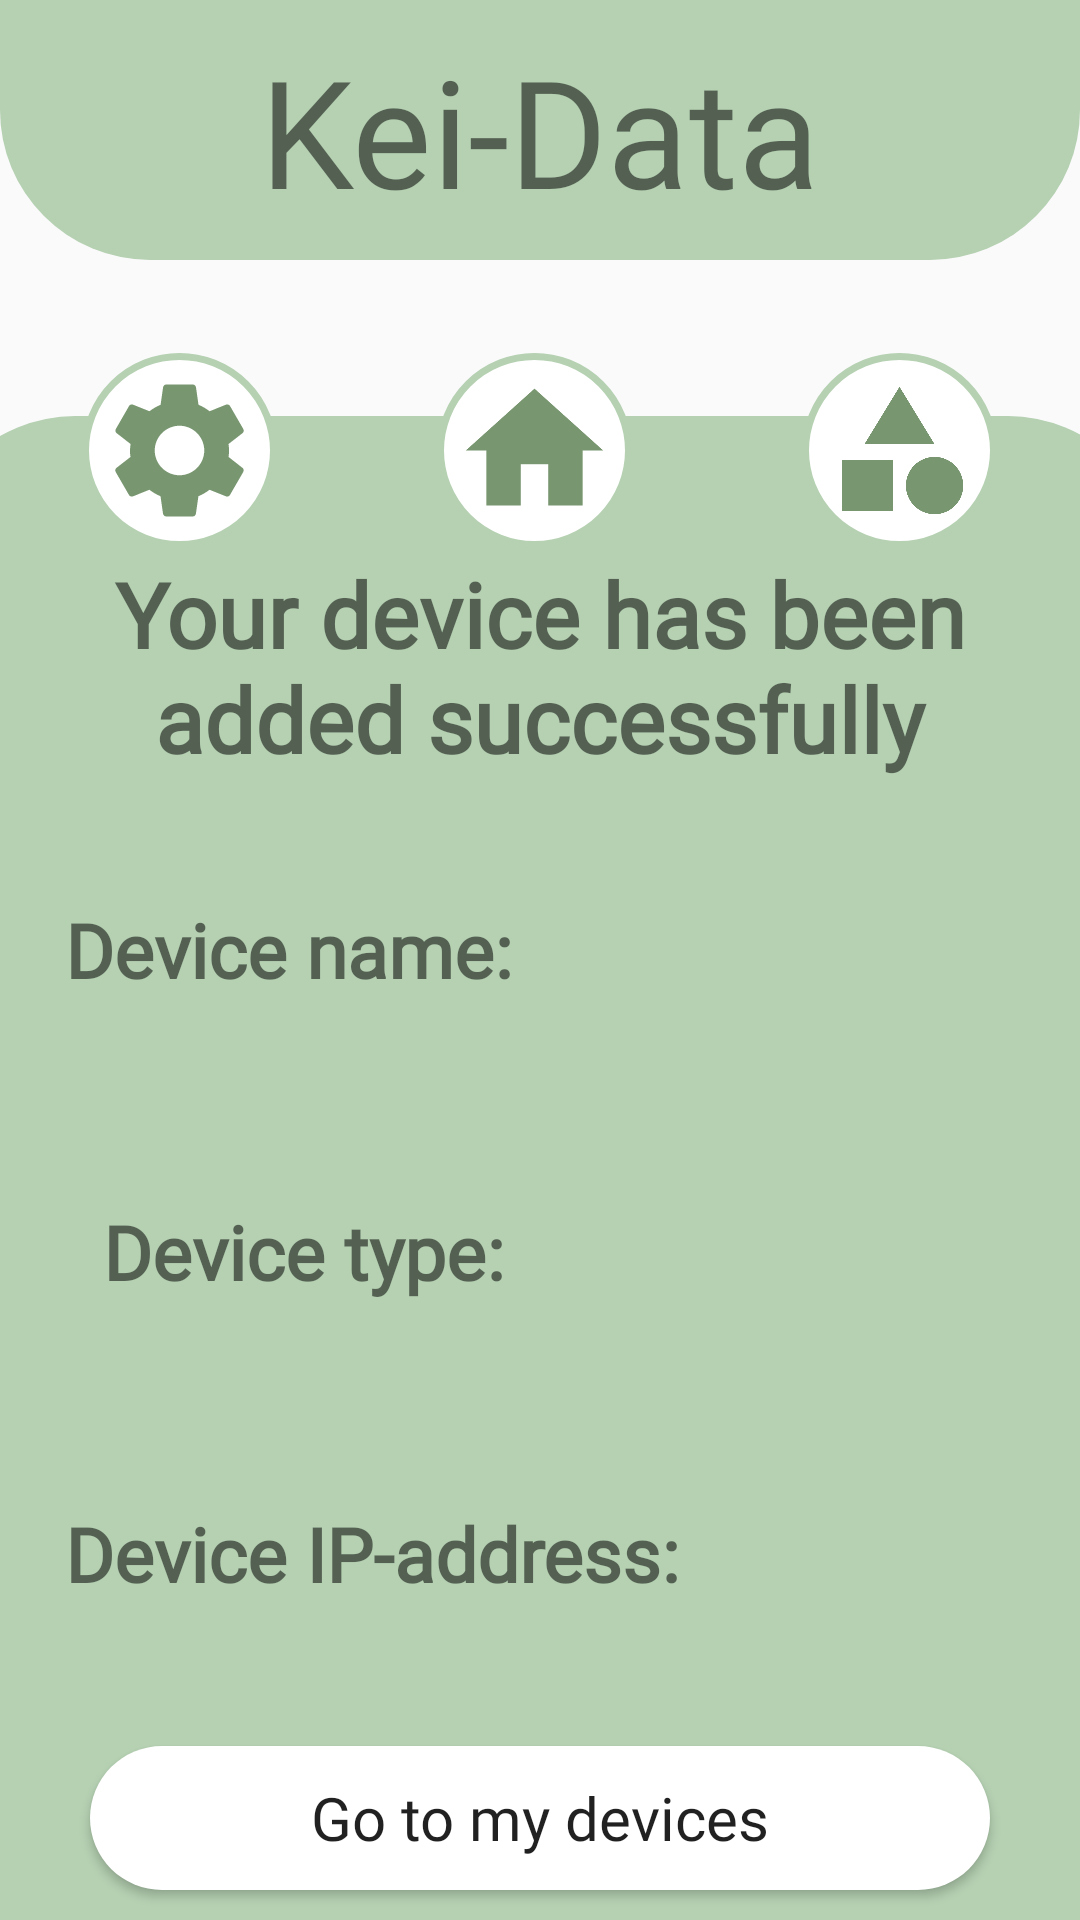

Named icons in this screenshot (1080*1920) and their centers, point (x, y):
Home: point (534, 450)
Settings: point (179, 450)
